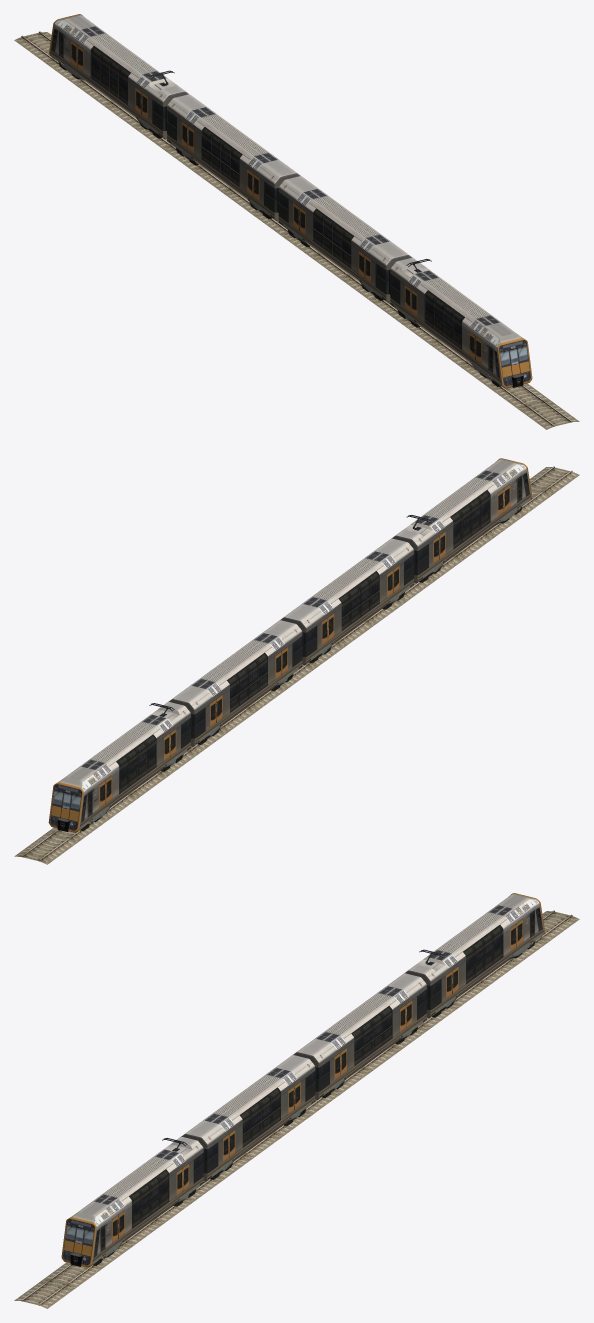
Rendered from vande.glb.
3 views of the same model, one above another, from view 1: azimuth 30°, elevation 25°; view 2: azimuth 150°, elevation 25°; view 3: azimuth 330°, elevation 25° (orthographic).
Parts seen in each view (by area): view 1: Cube.003_7, Cube_0, Cube.002_6, Cube.001_4, Plane_5; view 2: Cube_0, Cube.003_7, Cube.001_4, Cube.002_6, Plane_5; view 3: Cube.003_7, Cube_0, Cube.002_6, Cube.001_4, Plane_5.
Boxes of the visible parts, x1=… form: Cube.003_7: x1=390, y1=258, x2=532, y2=388; Cube_0: x1=48, y1=14, x2=189, y2=139; Cube.002_6: x1=278, y1=176, x2=412, y2=302; Cube.001_4: x1=167, y1=94, x2=300, y2=220; Plane_5: x1=14, y1=31, x2=579, y2=429; Cube_0: x1=48, y1=702, x2=190, y2=832; Cube.003_7: x1=391, y1=458, x2=532, y2=583; Cube.001_4: x1=168, y1=620, x2=302, y2=746; Cube.002_6: x1=280, y1=538, x2=413, y2=664; Plane_5: x1=14, y1=466, x2=579, y2=864; Cube.003_7: x1=61, y1=1137, x2=203, y2=1267; Cube_0: x1=404, y1=893, x2=545, y2=1018; Cube.002_6: x1=181, y1=1055, x2=315, y2=1181; Cube.001_4: x1=293, y1=973, x2=426, y2=1099; Plane_5: x1=14, y1=910, x2=579, y2=1308.
Size of the model in its own units: 1.97 by 3.31 by 54.35.
Materials: 8 (8 with a texture image).
